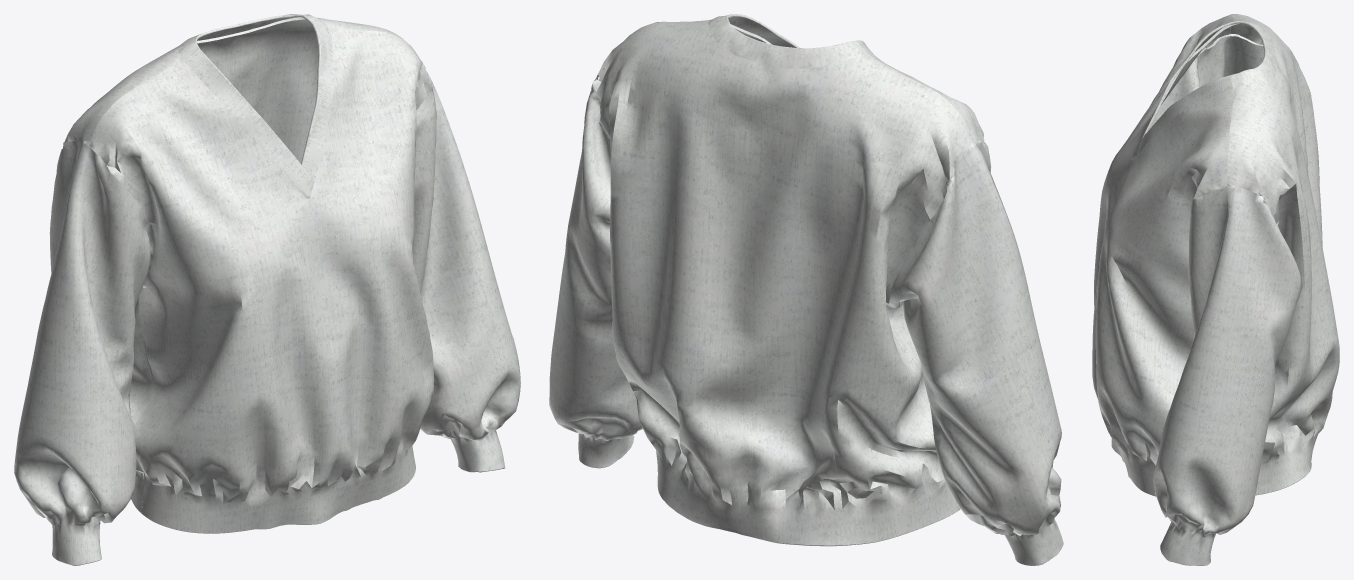
Rendered from blusa feminina.glb.
3 renders of one model, left to right at view 1: azimuth 30°, elevation 25°; view 2: azimuth 150°, elevation 25°; view 3: azimuth 270°, elevation 25°, orthographic. The views are drawn at different scales.
Parts seen in each view (by area): view 1: Design_Piece_mat_0_Outside_Mat_0_0; view 2: Design_Piece_mat_0_Outside_Mat_0_0; view 3: Design_Piece_mat_0_Outside_Mat_0_0.
Part boxes in pixels (bbox=[...]): Design_Piece_mat_0_Outside_Mat_0_0: bbox=[14, 14, 520, 565]; Design_Piece_mat_0_Outside_Mat_0_0: bbox=[549, 14, 1063, 565]; Design_Piece_mat_0_Outside_Mat_0_0: bbox=[1092, 14, 1339, 565].
Size of the model in its own units: 0.5999 by 0.571 by 0.2998.
1 material, 1 textured.
